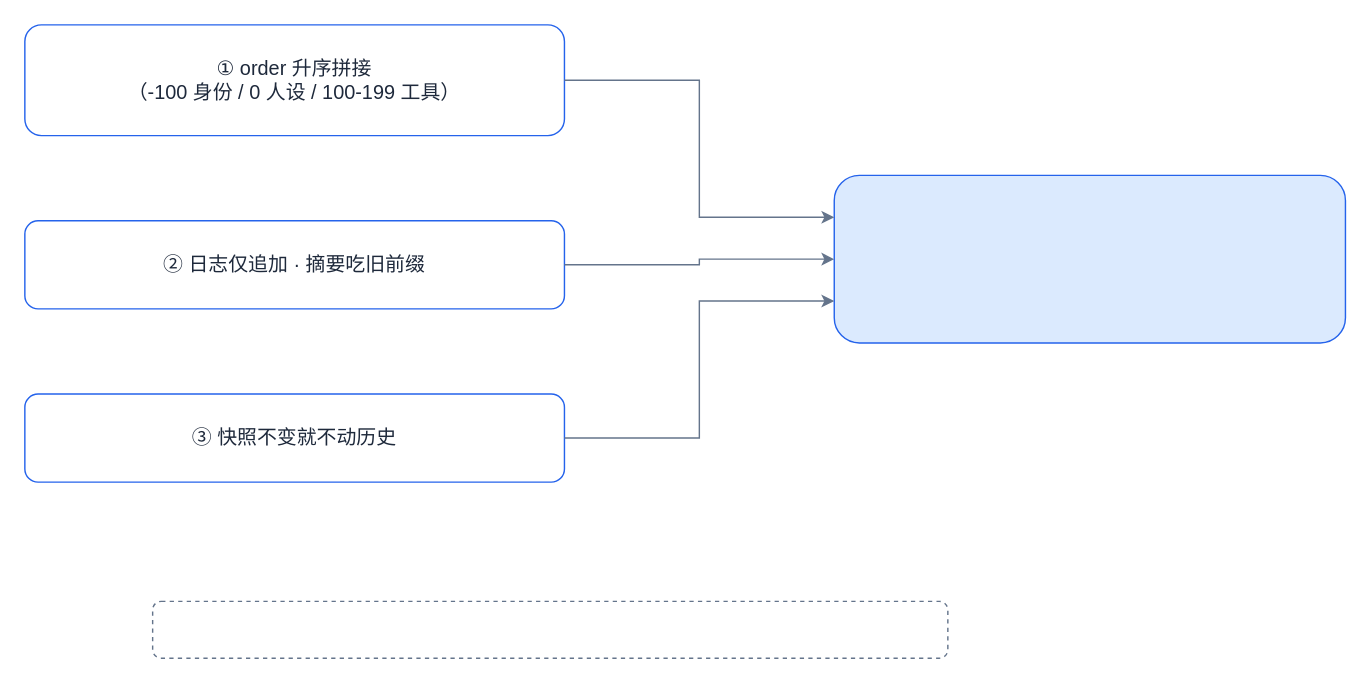
Image size: 1370x683. Some labels were removed from this diagram. The box of each missing label's shape, as (x1, y1, x2, y2) in pixels:
任一条破坏 = 后续全部按未命中计费: (151, 600, 948, 658)
前缀逐字节稳定 → KV 缓存命中: (833, 174, 1345, 343)
